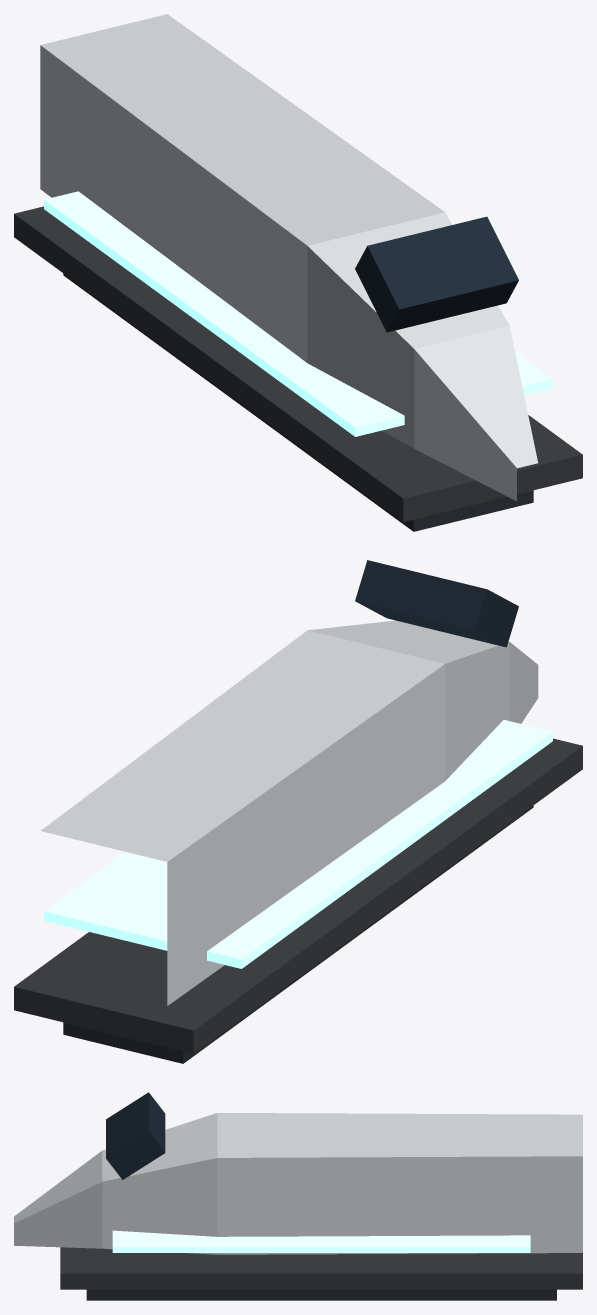
The model's file is veh_ground_locomotive_a09_lod2.glb.
3 views of the same model, one above another, from view 1: azimuth 30°, elevation 25°; view 2: azimuth 150°, elevation 25°; view 3: azimuth 270°, elevation 25° (orthographic). The views are drawn at different scales.
Visible parts, largest first — view 1: body; view 2: body; view 3: body.
Part boxes in pixels (box(x1,y1,x2,y2)): body: box(14, 14, 582, 531); body: box(14, 560, 582, 1063); body: box(14, 1092, 582, 1300).
Bounding box in the file's own units: 2.64 × 3.27 × 9.8.
